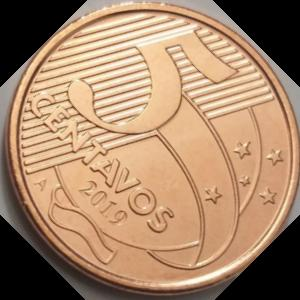5 cent: (4, 0, 299, 297)
